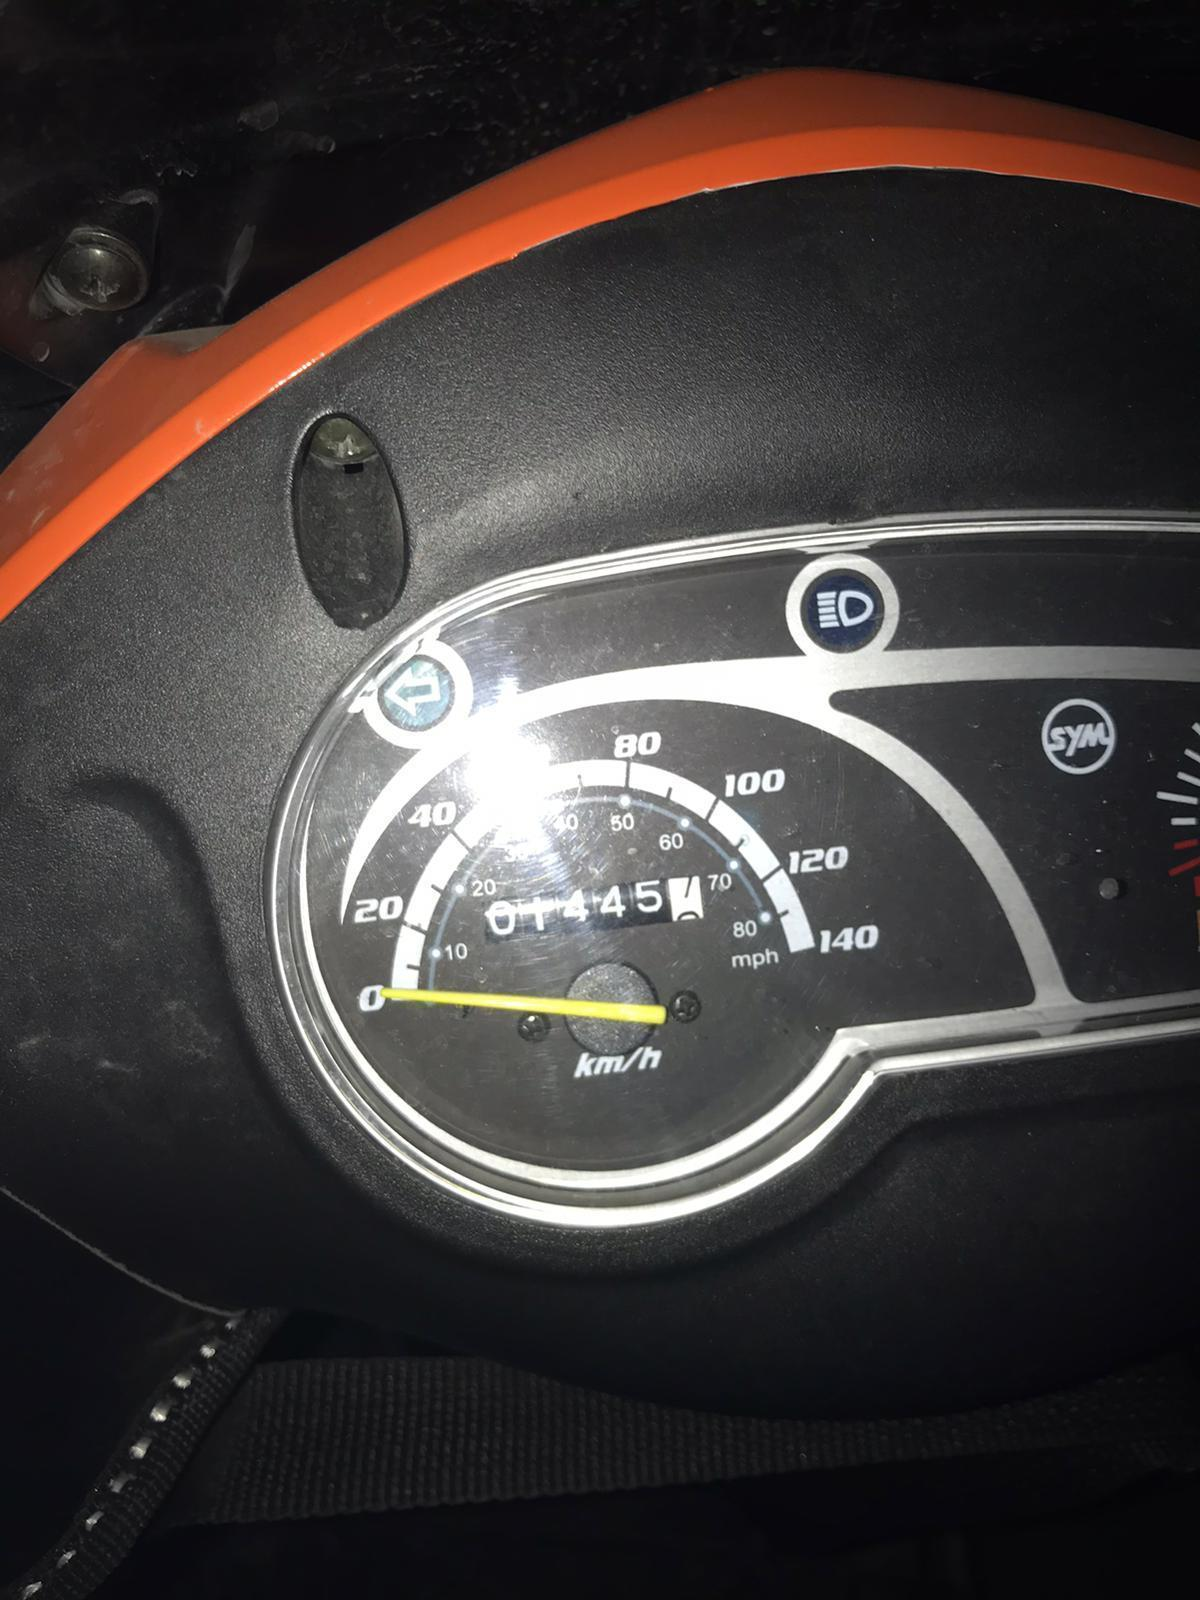0: (487, 900, 516, 934), (485, 876, 495, 894)
1: (527, 889, 553, 940)
4: (563, 884, 590, 923), (600, 883, 626, 921)
5: (633, 877, 664, 917)
7: (673, 872, 700, 905)
odometer: (480, 872, 707, 947)
